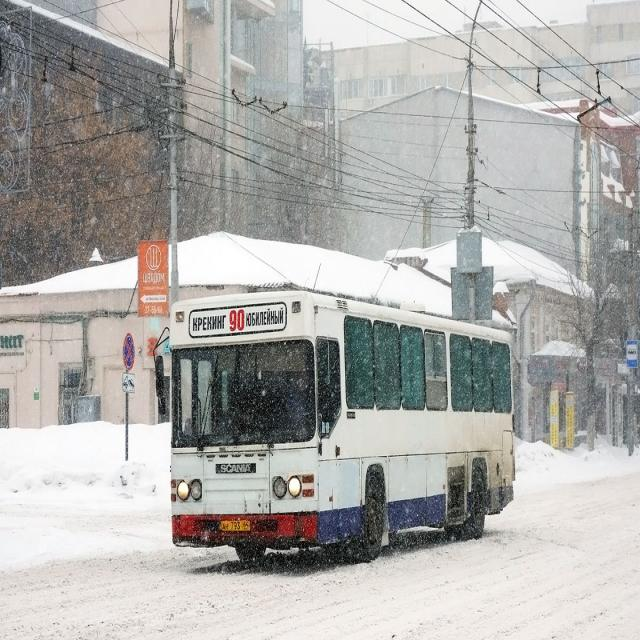number-of-bus: (228, 304, 248, 343)
